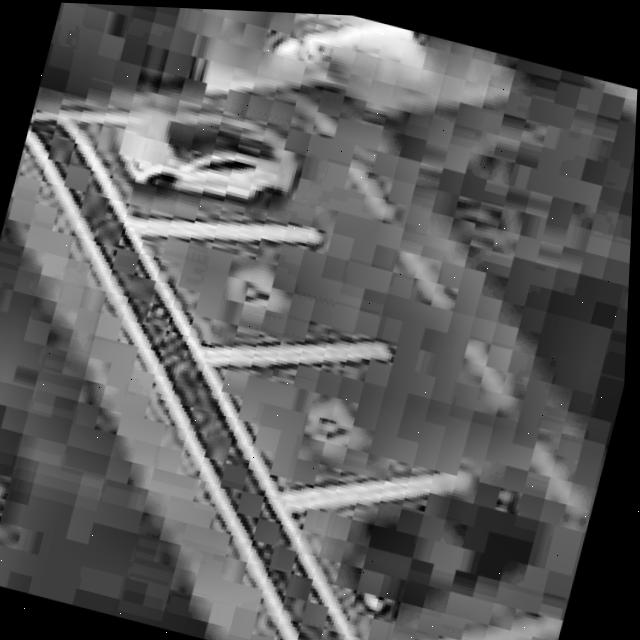car: (327, 436, 562, 640), (109, 93, 300, 217)
